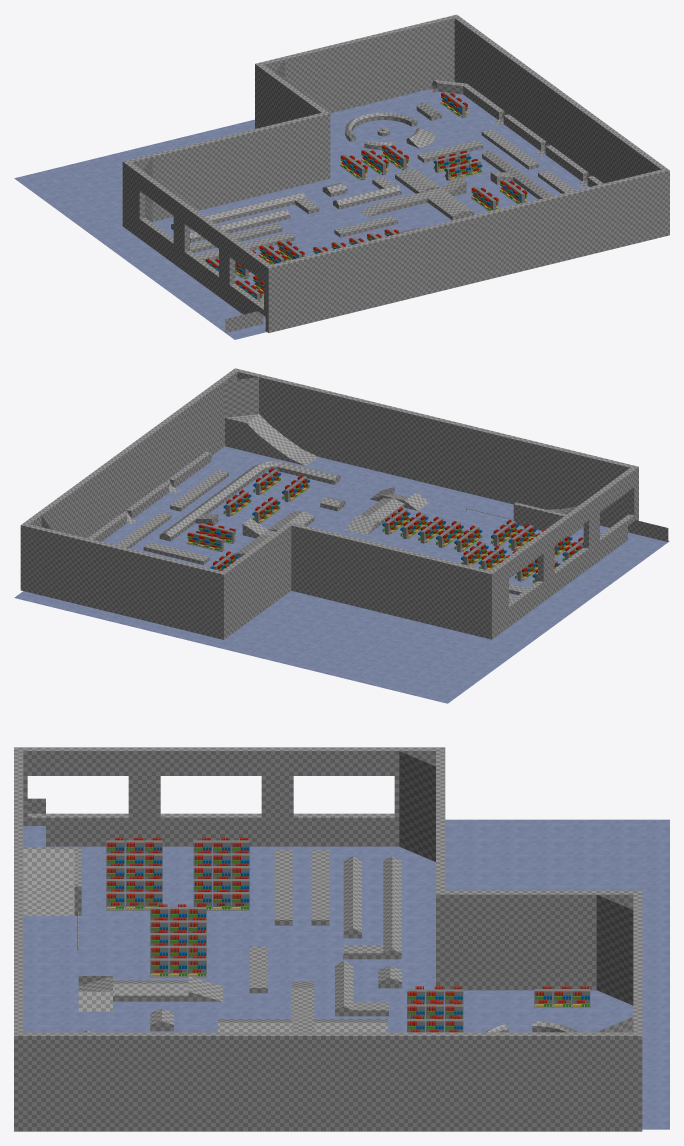
Rendered from supermarket.gltf.
The picture shows the model from 3 angles, top to bottom: view 1: azimuth 30°, elevation 25°; view 2: azimuth 150°, elevation 25°; view 3: azimuth 270°, elevation 25°; orthographic projection. The views are drawn at different scales.
Parts seen in each view (by area): view 1: Cube, Plane; view 2: Cube, Plane; view 3: Cube, Plane.
Boxes of the visible parts, x1,y1,x2,y2 form: Cube: (122, 14, 669, 332); Plane: (14, 89, 588, 339); Cube: (20, 368, 668, 639); Plane: (14, 446, 669, 703); Cube: (14, 747, 642, 1131); Plane: (23, 819, 669, 1129).
Size of the model in its own units: 161 by 24.33 by 143.
9 materials, 3 textured.
